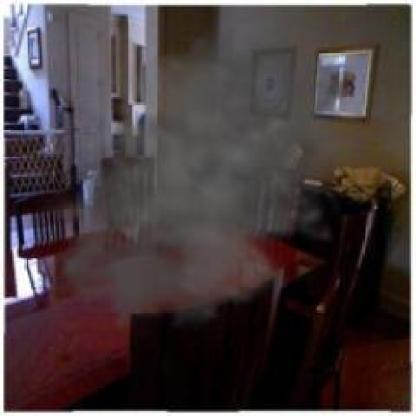Smoke: (35, 2, 374, 354)
